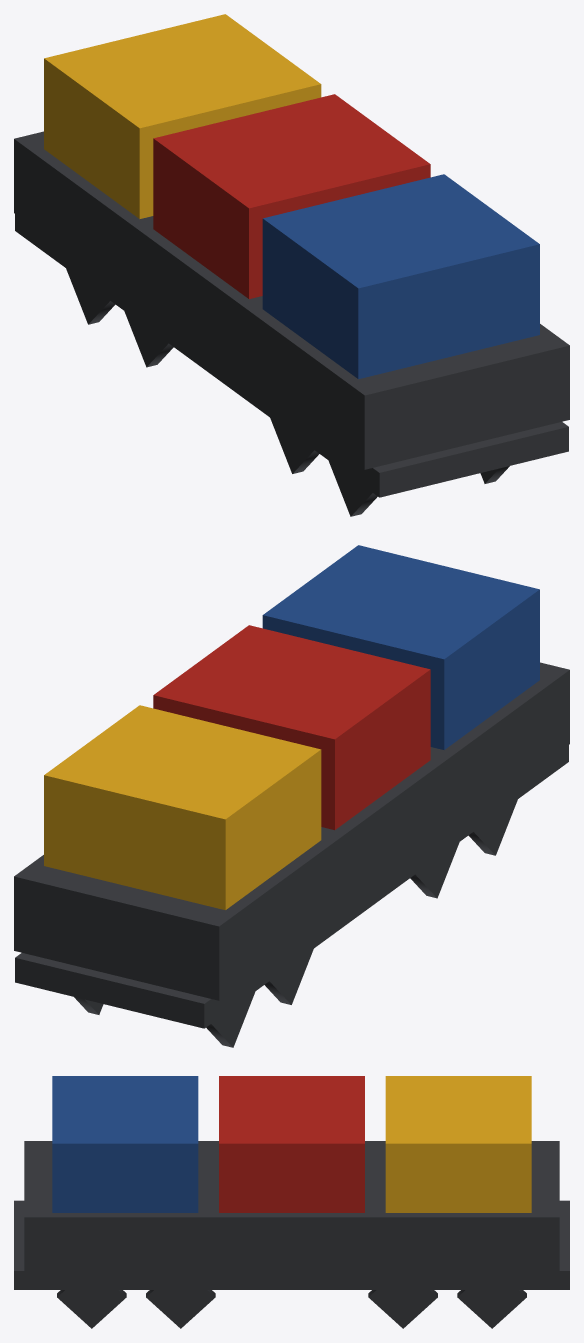
Rendered from veh_ground_rail_wagon_a05_lod2.glb.
3 views of the same model, one above another, from view 1: azimuth 30°, elevation 25°; view 2: azimuth 150°, elevation 25°; view 3: azimuth 270°, elevation 25° (orthographic). The views are drawn at different scales.
Visible parts, largest first — view 1: body, wheel_0, wheel_6, wheel_2, wheel_4; view 2: body, wheel_0, wheel_6, wheel_2, wheel_4; view 3: body, wheel_1, wheel_7, wheel_3, wheel_5.
Part boxes in pixels (x1,y1,x2,y2): body: [14, 14, 569, 497]; wheel_0: [66, 268, 115, 324]; wheel_6: [328, 460, 377, 516]; wheel_2: [124, 311, 173, 367]; wheel_4: [270, 418, 319, 473]; body: [14, 545, 569, 1028]; wheel_0: [206, 991, 255, 1047]; wheel_6: [468, 799, 517, 855]; wheel_2: [264, 949, 313, 1004]; wheel_4: [410, 842, 459, 898]; body: [14, 1076, 569, 1289]; wheel_1: [457, 1290, 526, 1328]; wheel_7: [57, 1290, 126, 1328]; wheel_3: [368, 1290, 437, 1328]; wheel_5: [146, 1290, 215, 1328].
Size of the model in its own units: 2.6 by 3.05 by 8.
